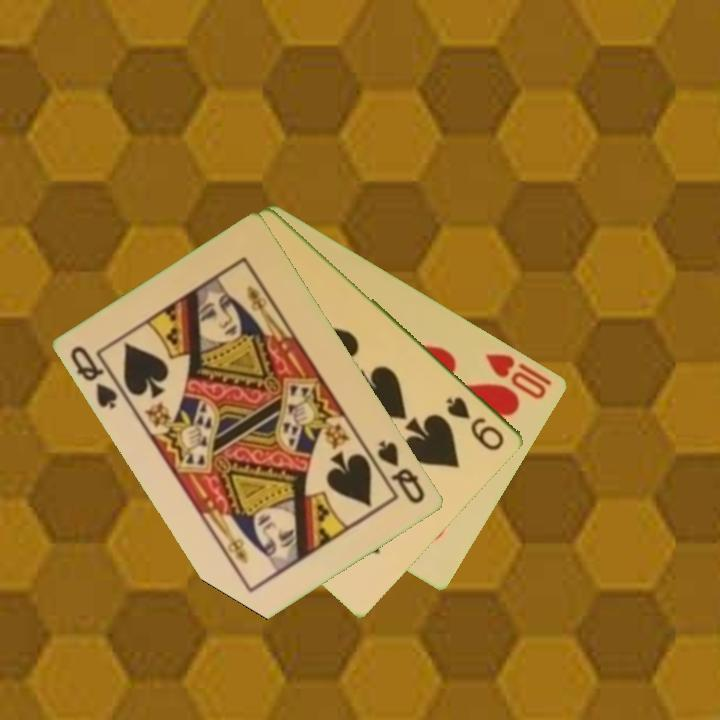10h: (482, 349, 556, 402)
9s: (443, 393, 508, 454)
Qs: (67, 342, 131, 413), (374, 436, 429, 507)
